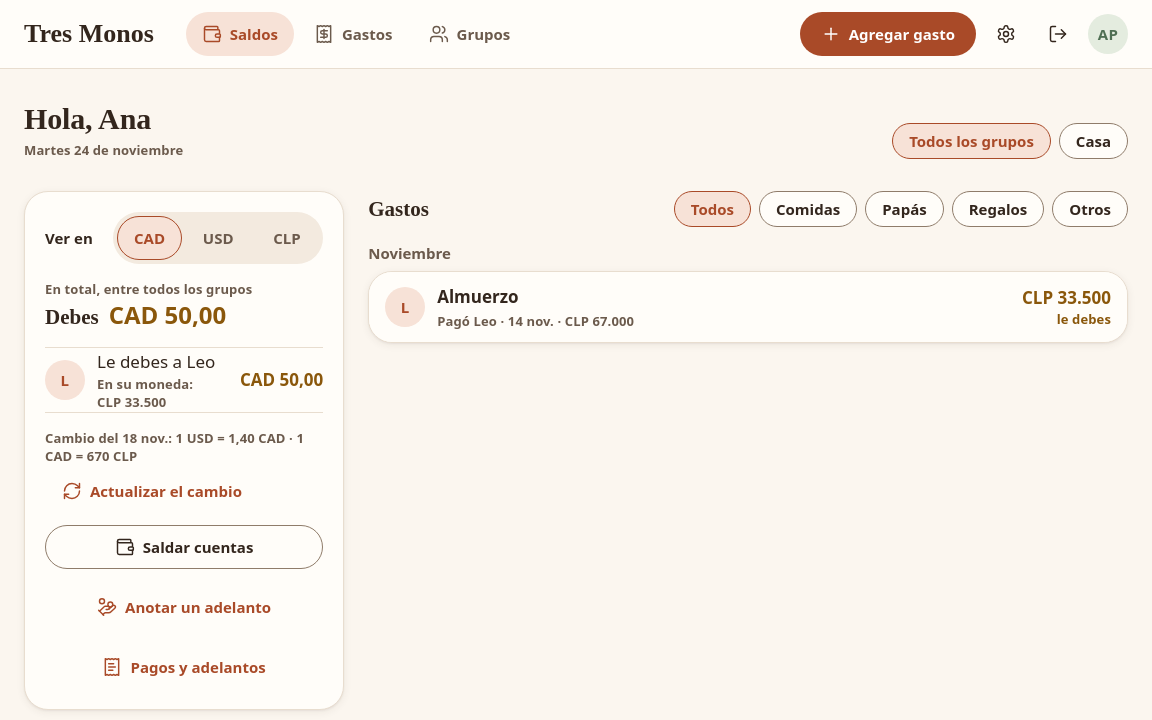
Scenario: DashboardScreen › an expense › names who covers it all when only one person shares it
Click the button "Almuerzo".
click(405, 307)  # box [369,272,1127,342]
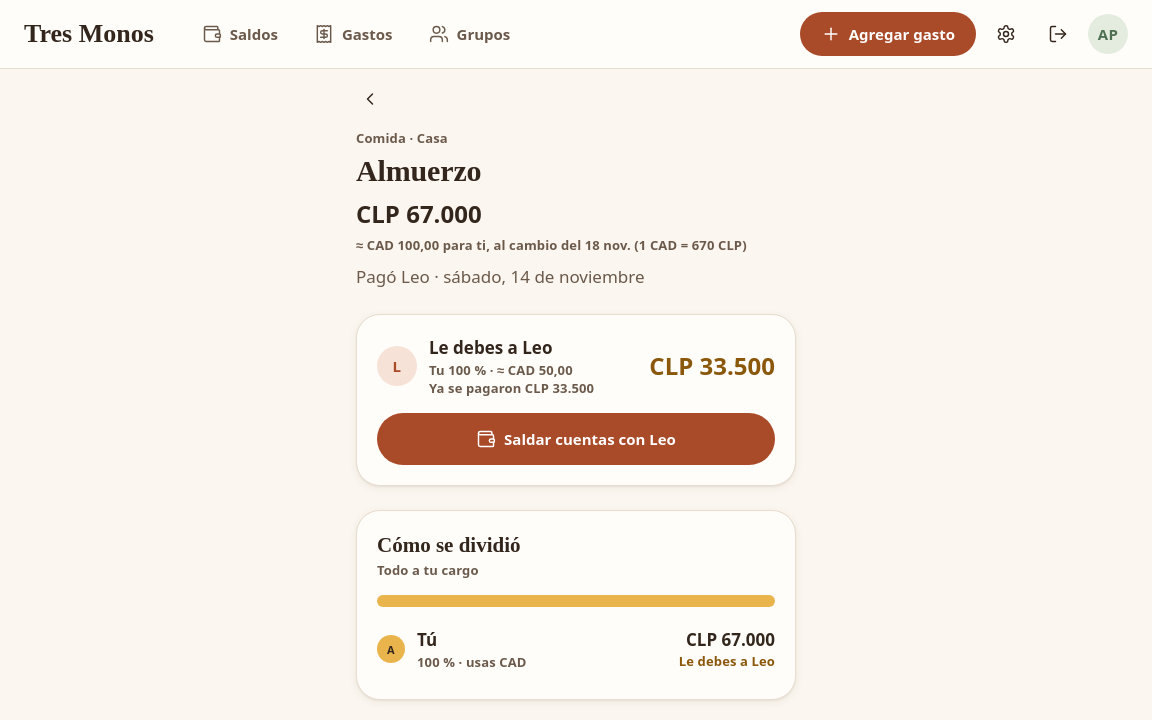
Expected: the heading "Almuerzo" is shown, [356,154,481,187]
Expected: the text "Todo a tu cargo" is shown, [377,561,479,579]
